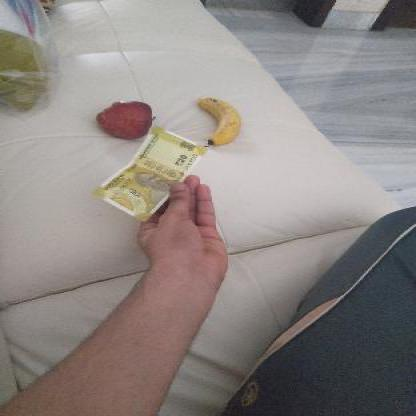New20Front: (93, 129, 200, 212)
